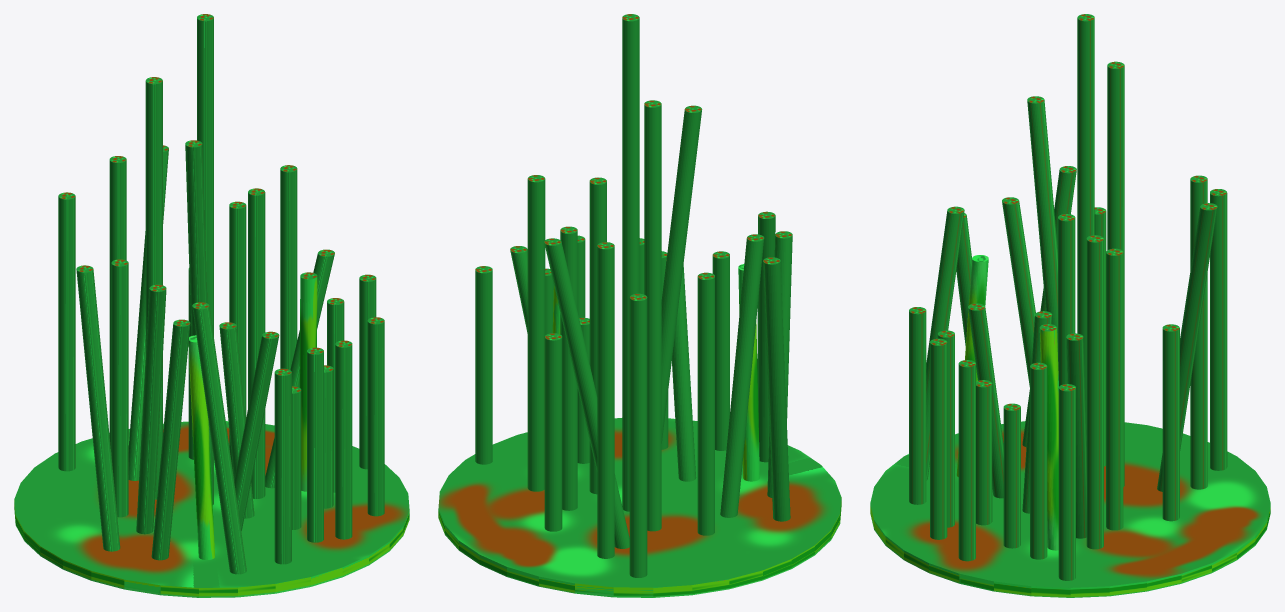
The model's file is Planta.fbx.
The picture shows the model from 3 angles, left to right: view 1: azimuth 30°, elevation 25°; view 2: azimuth 150°, elevation 25°; view 3: azimuth 270°, elevation 25°; orthographic projection.
Visible parts, largest first — view 1: Cylinder; view 2: Cylinder; view 3: Cylinder.
Boxes of the visible parts, bbox=[...] form: Cylinder: bbox=[14, 14, 409, 597]; Cylinder: bbox=[438, 14, 841, 597]; Cylinder: bbox=[870, 14, 1270, 597].
Size of the model in its own units: 200 by 274 by 200.
